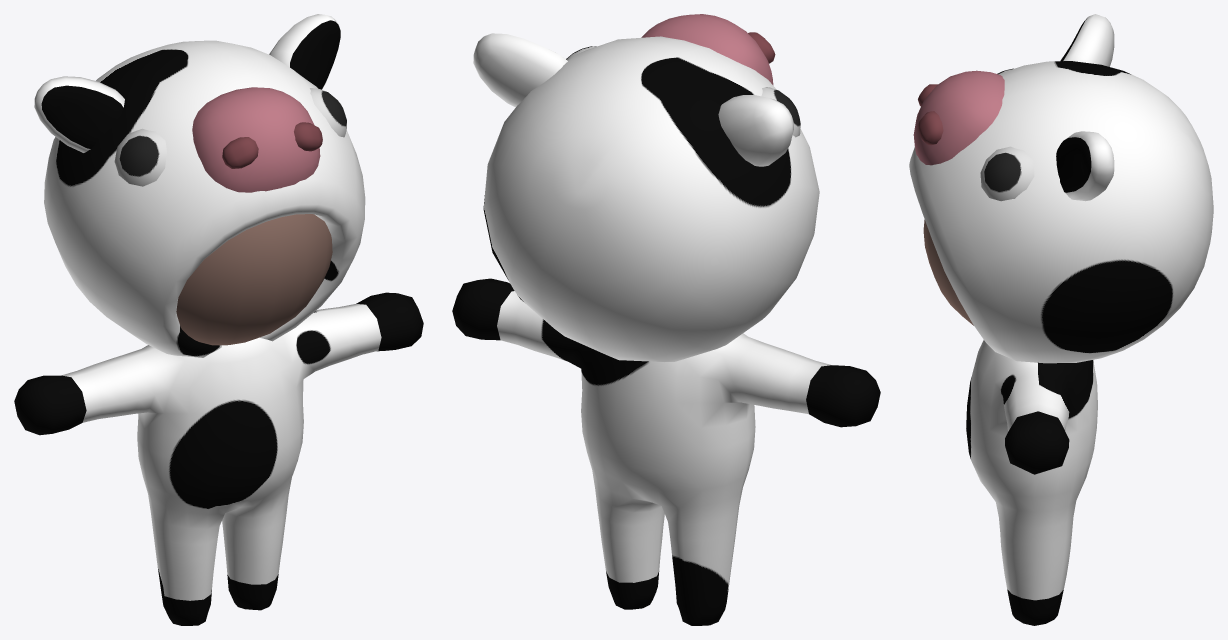
The model's file is Boquanaobosua.fbx.
3 views of the same model, side by side, from view 1: azimuth 30°, elevation 25°; view 2: azimuth 150°, elevation 25°; view 3: azimuth 270°, elevation 25° (orthographic). The views are drawn at different scales.
Parts seen in each view (by area): view 1: Boquanaobosua; view 2: Boquanaobosua; view 3: Boquanaobosua.
Boxes of the visible parts, bbox=[...] form: Boquanaobosua: bbox=[14, 14, 423, 625]; Boquanaobosua: bbox=[452, 14, 880, 625]; Boquanaobosua: bbox=[909, 14, 1213, 625].
Bounding box in the file's own units: 225 × 296 × 154.
